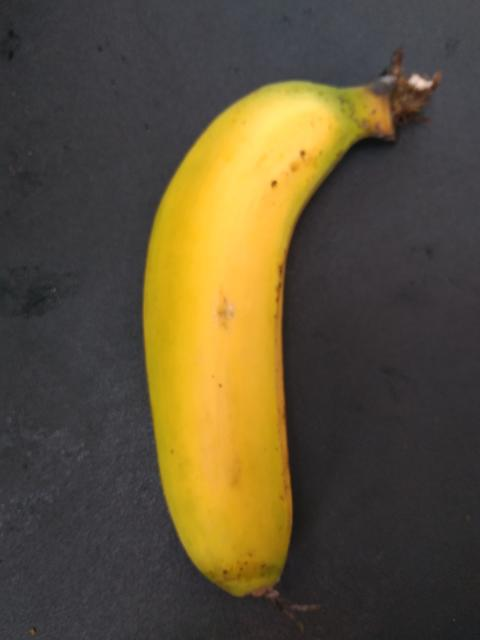freshripe: (131, 86, 375, 588)
